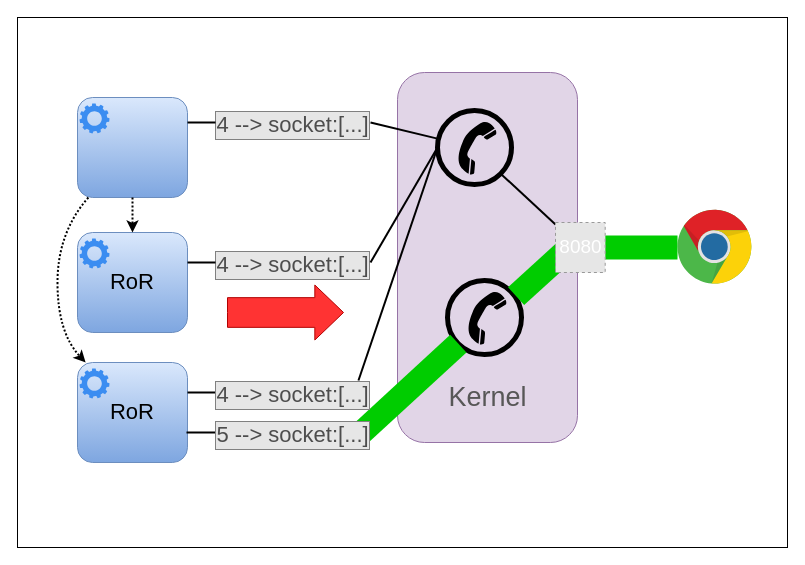
Image size: 805x565. Some labels were removed from this diagram. Grey dashed boxes stand in for pictures. Each missing label, with the box of its shape:
accept(): (226, 284, 344, 340)
unicorn: (76, 96, 188, 198)
